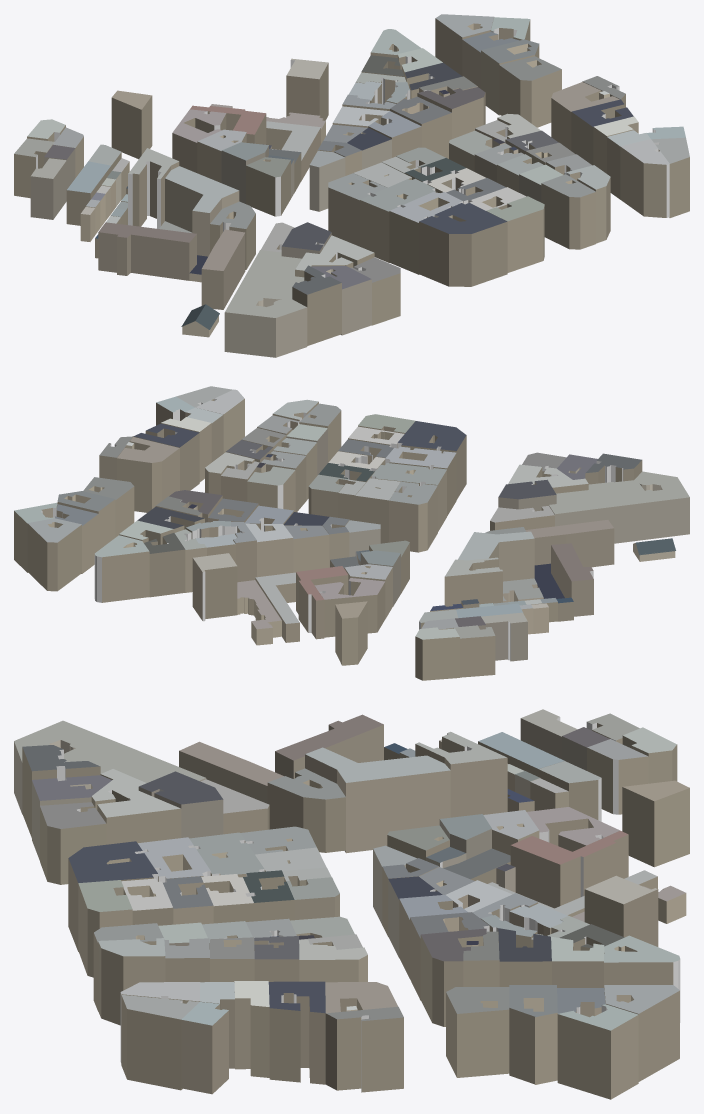
3 renders of one model, top to bottom at view 1: azimuth 30°, elevation 25°; view 2: azimuth 150°, elevation 25°; view 3: azimuth 270°, elevation 25°, orthographic. The views are drawn at different scales.
Parts seen in each view (by area): view 1: tuile; view 2: tuile; view 3: tuile.
Boxes of the visible parts, left/top/right/bottom form: tuile: left=14, top=14, right=689, bottom=357; tuile: left=14, top=386, right=689, bottom=680; tuile: left=14, top=709, right=689, bottom=1099.
Size of the model in its own units: 268 by 30.01 by 227.
